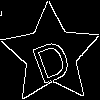D: (26, 29, 74, 86)
